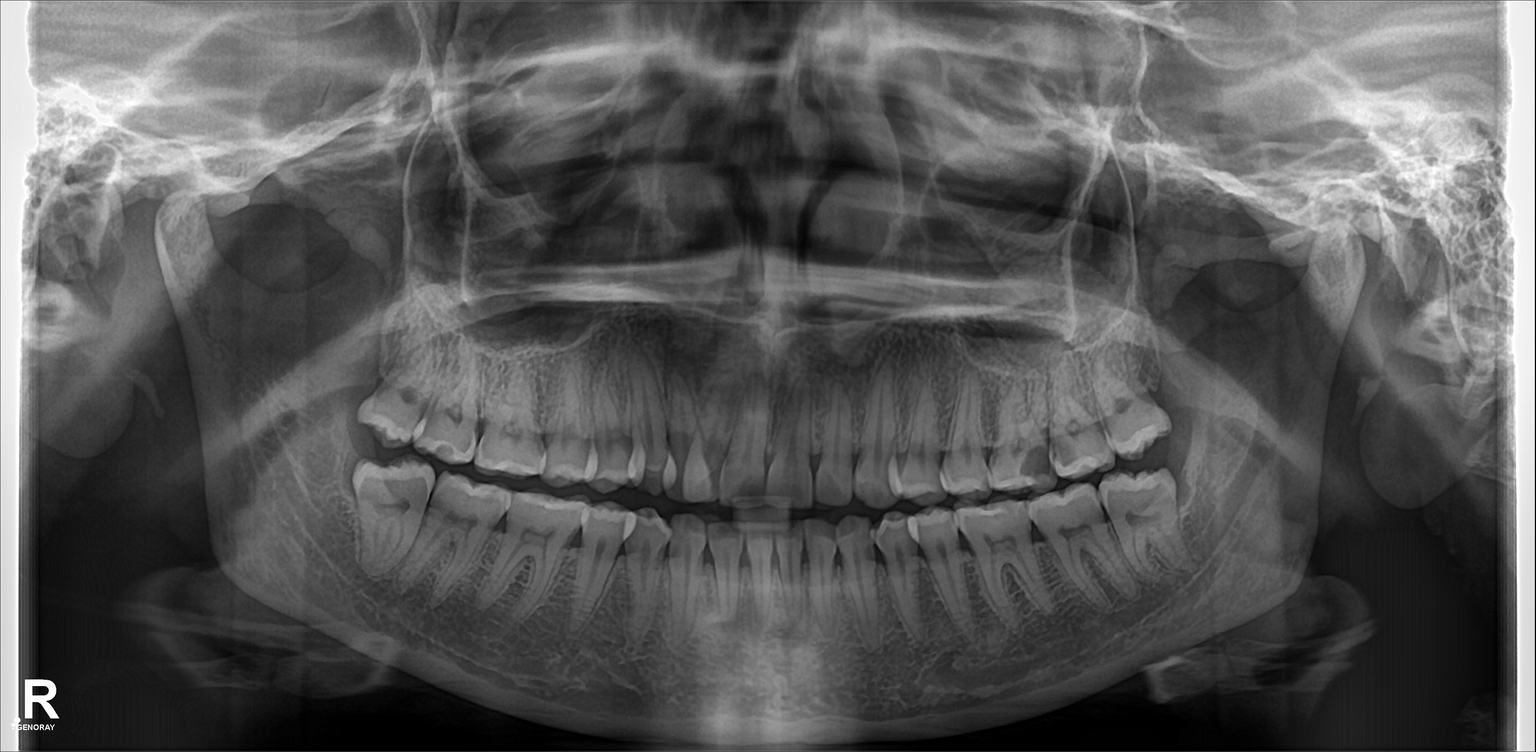Dental Caries: (1050, 426, 1104, 460), (1013, 449, 1053, 481)
